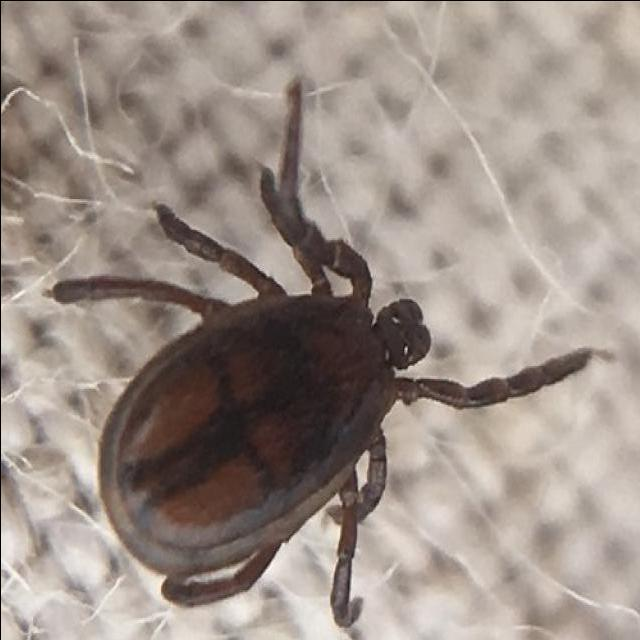Ixodes Ricinus-M: (55, 79, 586, 617)
